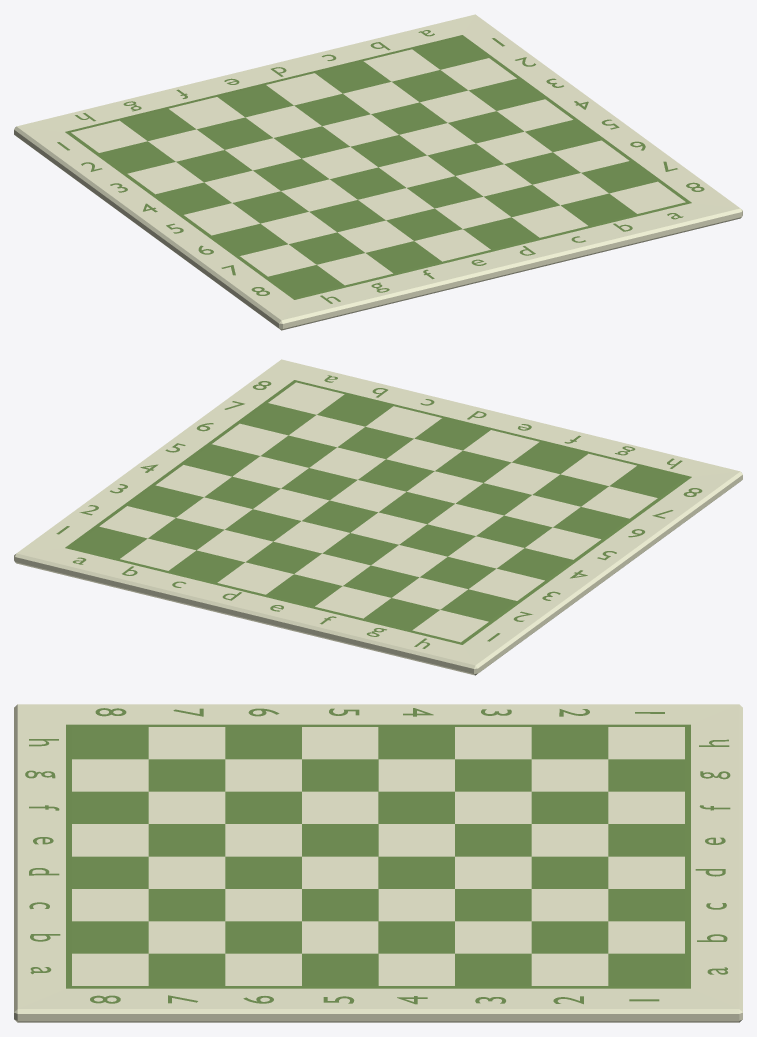
File: board.fbx
3 renders of one model, top to bottom at view 1: azimuth 30°, elevation 25°; view 2: azimuth 150°, elevation 25°; view 3: azimuth 270°, elevation 25°, orthographic. The views are drawn at different scales.
Parts seen in each view (by area): view 1: Board; view 2: Board; view 3: Board.
Part boxes in pixels (<box>): Board: <box>14,14,742,330</box>; Board: <box>14,359,742,675</box>; Board: <box>14,704,742,1022</box>.
Bounding box in the file's own units: 952 × 21.1 × 952.
